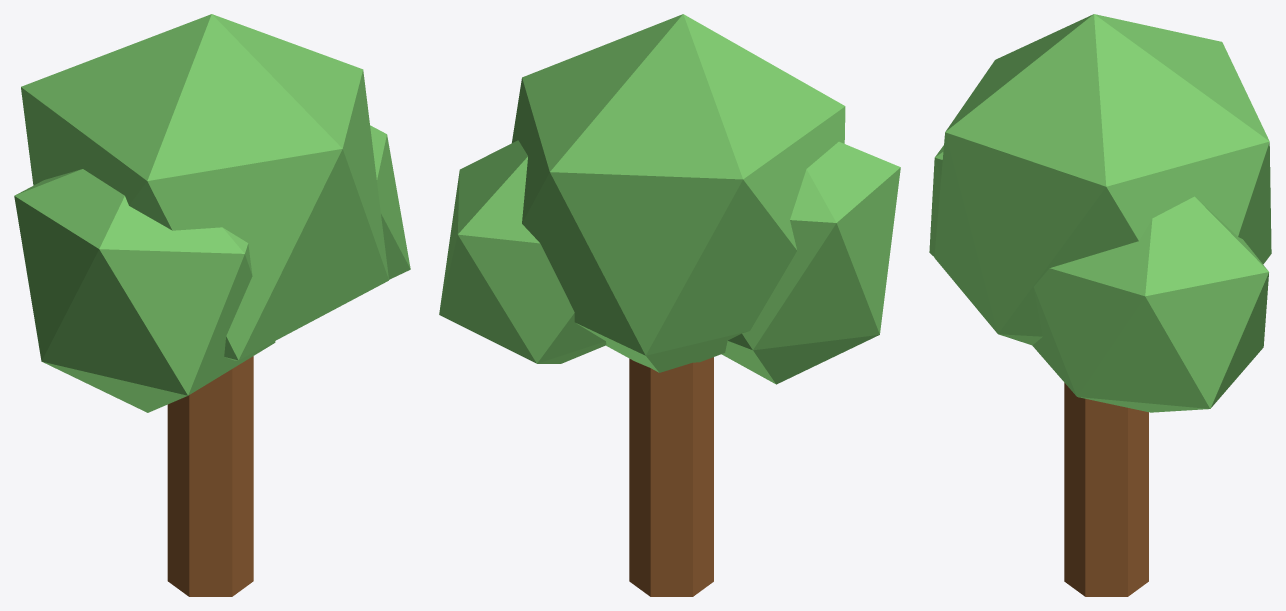
Rendered from cay-tron.glb.
3 views of the same model, side by side, from view 1: azimuth 30°, elevation 25°; view 2: azimuth 150°, elevation 25°; view 3: azimuth 270°, elevation 25° (orthographic).
Parts seen in each view (by area): view 1: cay-tron; view 2: cay-tron; view 3: cay-tron.
Boxes of the visible parts, bbox=[...] form: cay-tron: bbox=[14, 14, 410, 596]; cay-tron: bbox=[439, 14, 900, 596]; cay-tron: bbox=[929, 14, 1271, 596].
Bounding box in the file's own units: 2.07 × 2.94 × 1.61.
